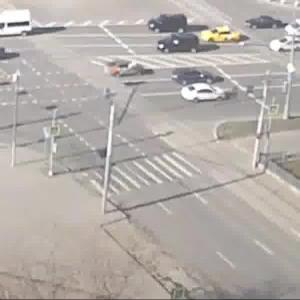car: (148, 10, 189, 35), (182, 82, 233, 102), (1, 9, 36, 38), (99, 59, 145, 81), (158, 36, 202, 55), (198, 27, 241, 46), (172, 71, 229, 85), (245, 17, 290, 31), (274, 41, 300, 54)
